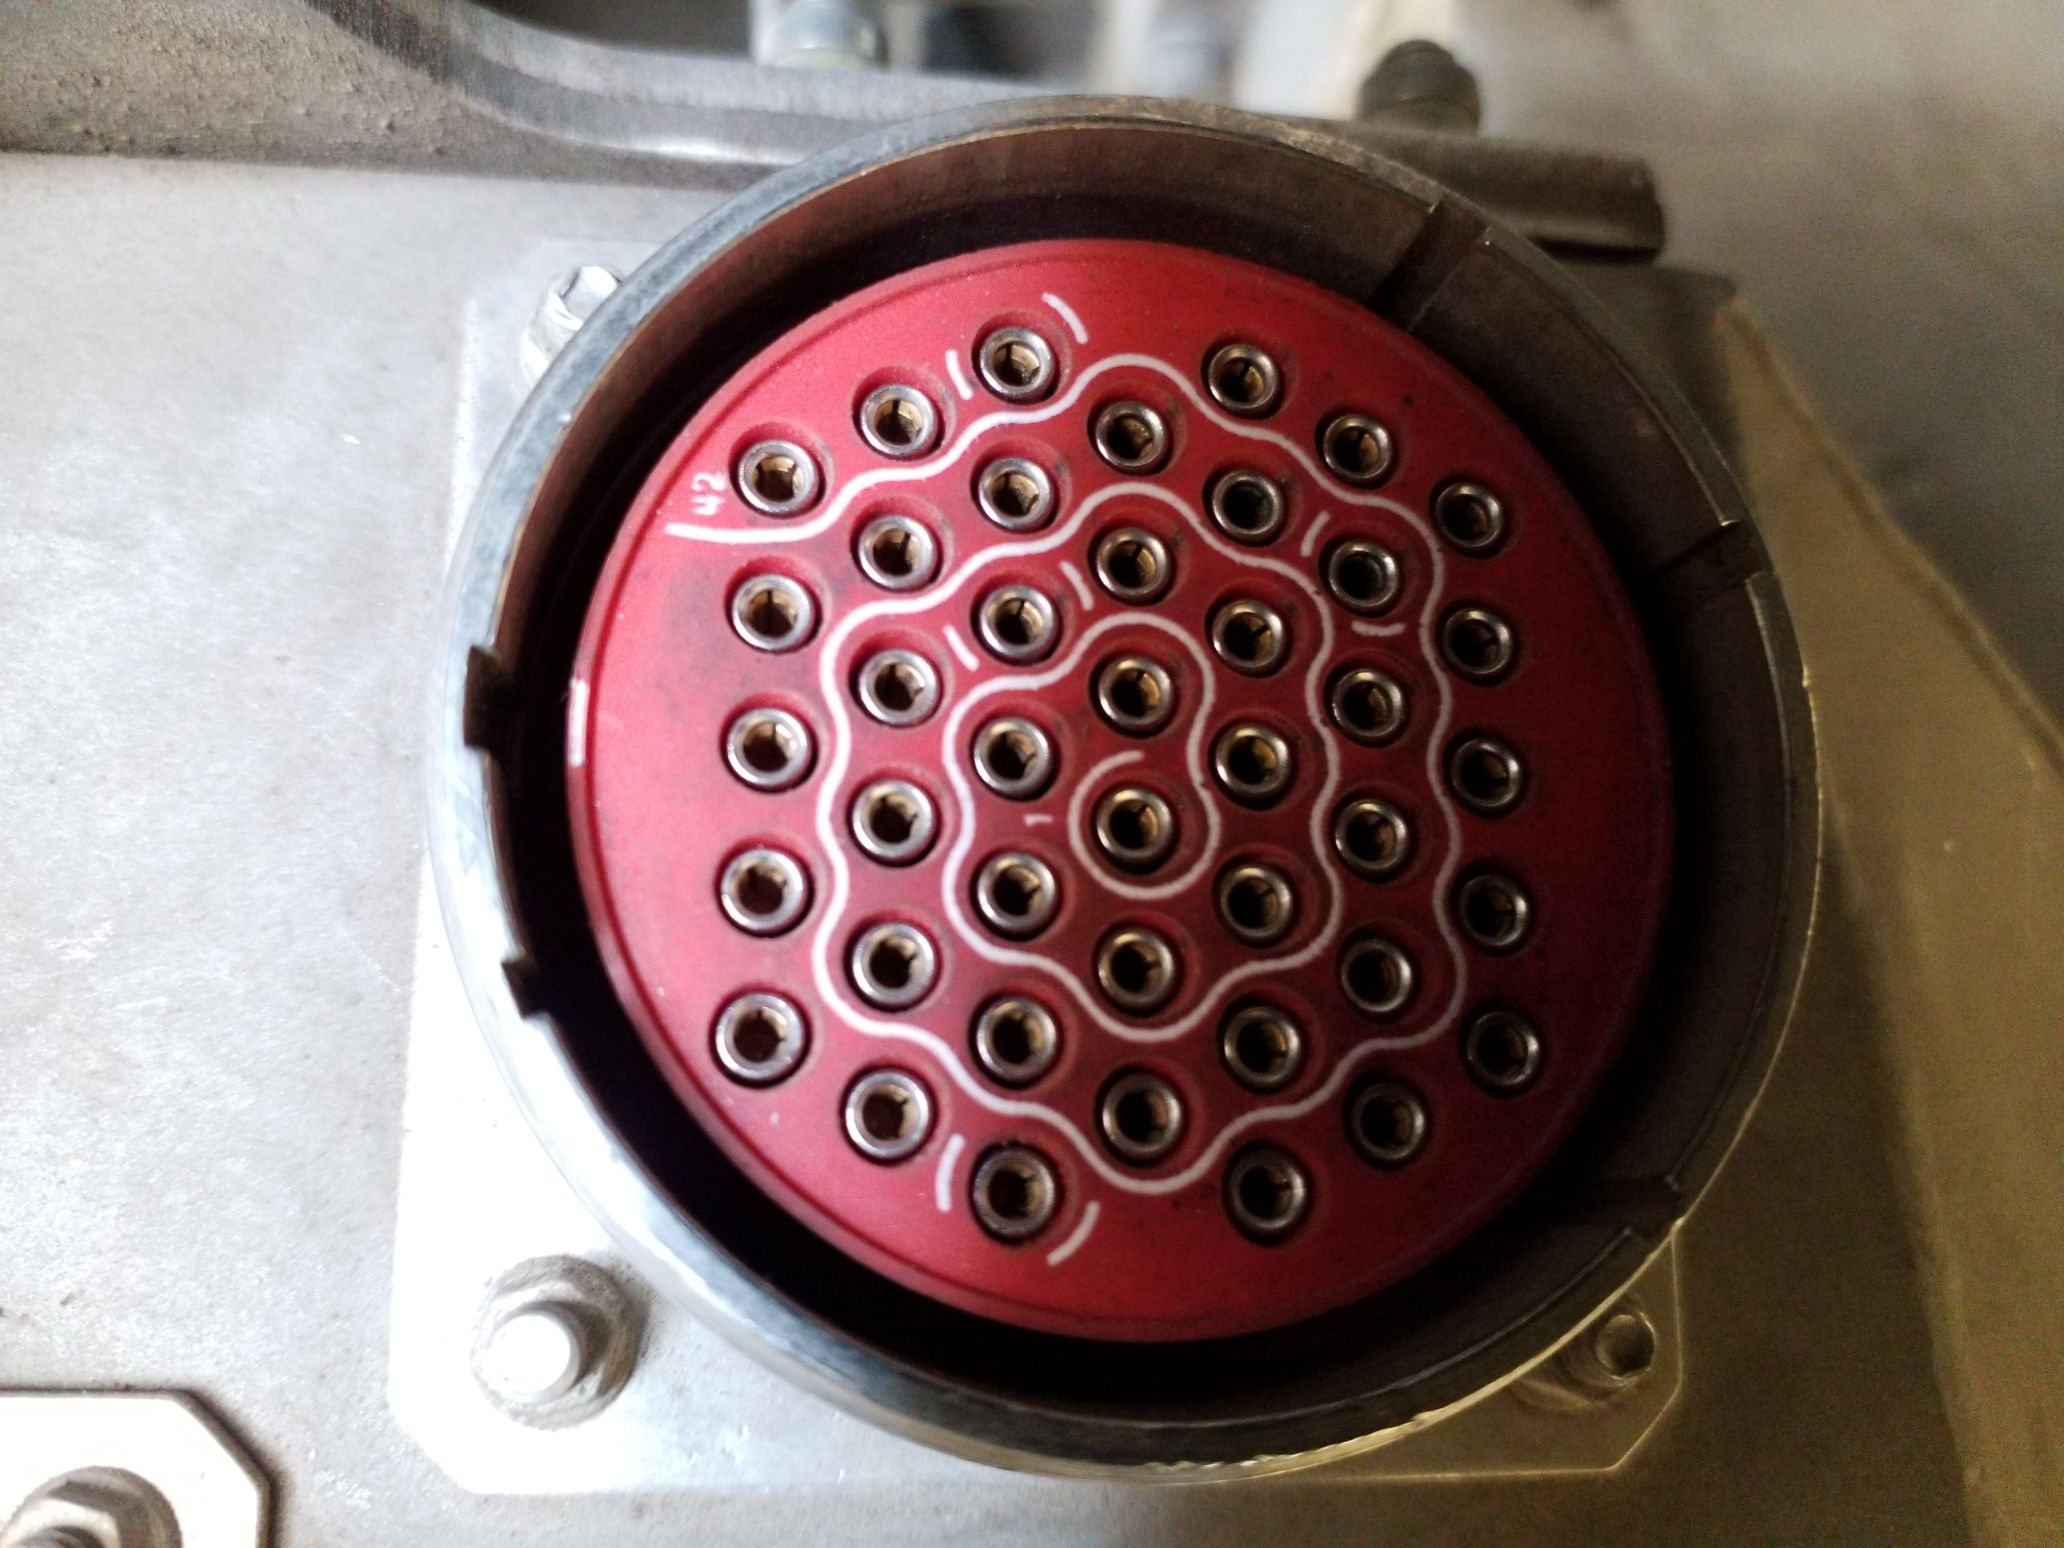inletround: (444, 98, 1806, 1502)
